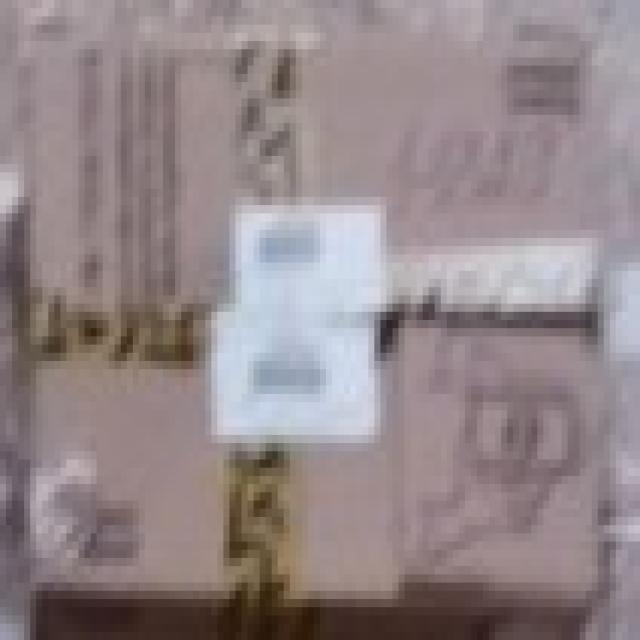boxes: (31, 40, 595, 639)
